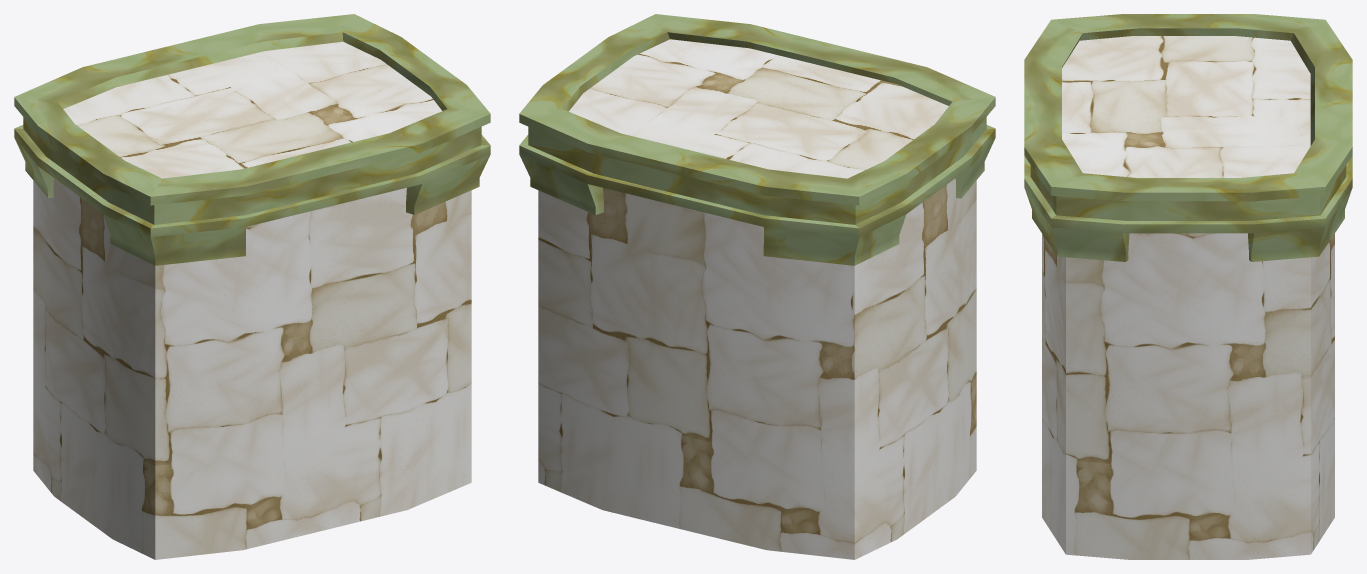
The model's file is BlockHouse_Small.fbx.
3 renders of one model, left to right at view 1: azimuth 30°, elevation 25°; view 2: azimuth 150°, elevation 25°; view 3: azimuth 270°, elevation 25°, orthographic.
Visible parts, largest first — view 1: BlockHouse_Small; view 2: BlockHouse_Small; view 3: BlockHouse_Small.
Boxes of the visible parts, x1=… form: BlockHouse_Small: x1=14, y1=14, x2=490, y2=559; BlockHouse_Small: x1=519, y1=14, x2=995, y2=559; BlockHouse_Small: x1=1024, y1=14, x2=1352, y2=559.
Size of the model in its own units: 3.45 by 3.37 by 2.68.
